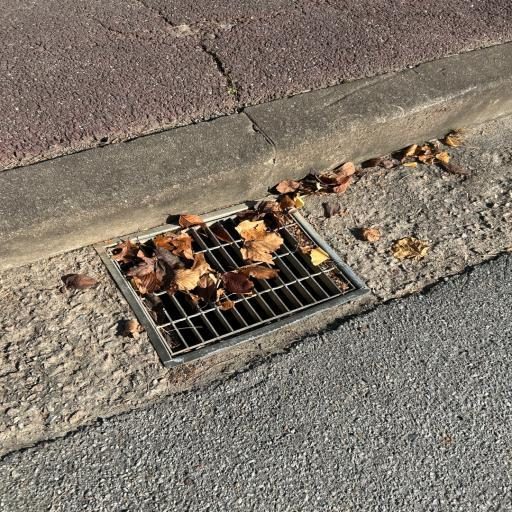debris: (112, 231, 276, 311), (235, 220, 282, 265), (238, 199, 293, 221), (180, 214, 206, 229), (311, 247, 330, 265)
drain: (93, 194, 370, 369)
